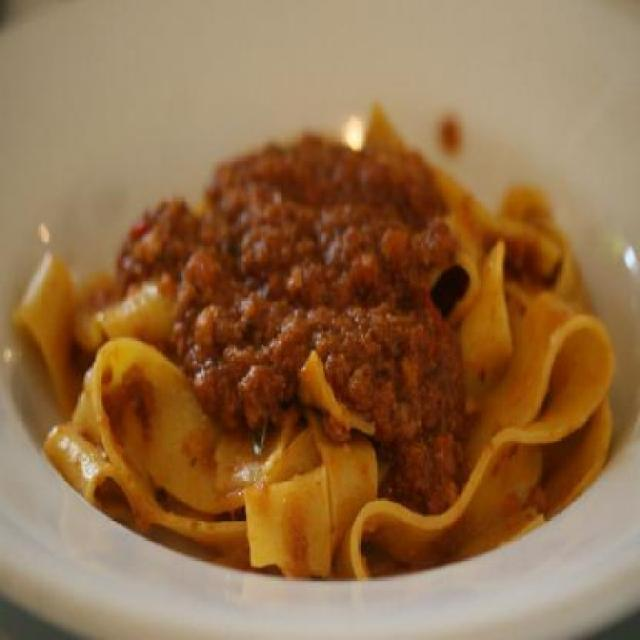Pasta al ragu: (66, 92, 610, 538)
